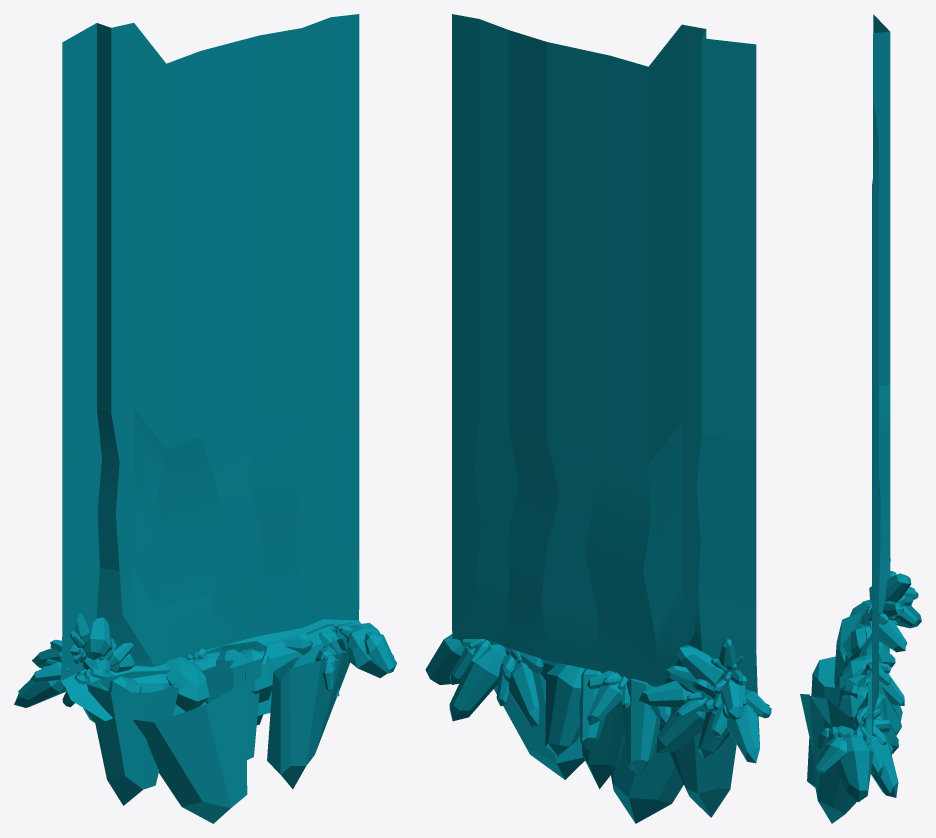
The model's file is Roof_short_step.fbx.
The picture shows the model from 3 angles, left to right: view 1: azimuth 30°, elevation 25°; view 2: azimuth 150°, elevation 25°; view 3: azimuth 270°, elevation 25°; orthographic projection. The views are drawn at different scales.
Parts seen in each view (by area): view 1: Roof_short_step_up_comb; view 2: Roof_short_step_up_comb; view 3: Roof_short_step_up_comb.
Part boxes in pixels (left/top/right/bottom): Roof_short_step_up_comb: left=14, top=14, right=396, bottom=823; Roof_short_step_up_comb: left=425, top=14, right=771, bottom=823; Roof_short_step_up_comb: left=800, top=14, right=921, bottom=823.
Size of the model in its own units: 4.01 by 8.84 by 1.32.
